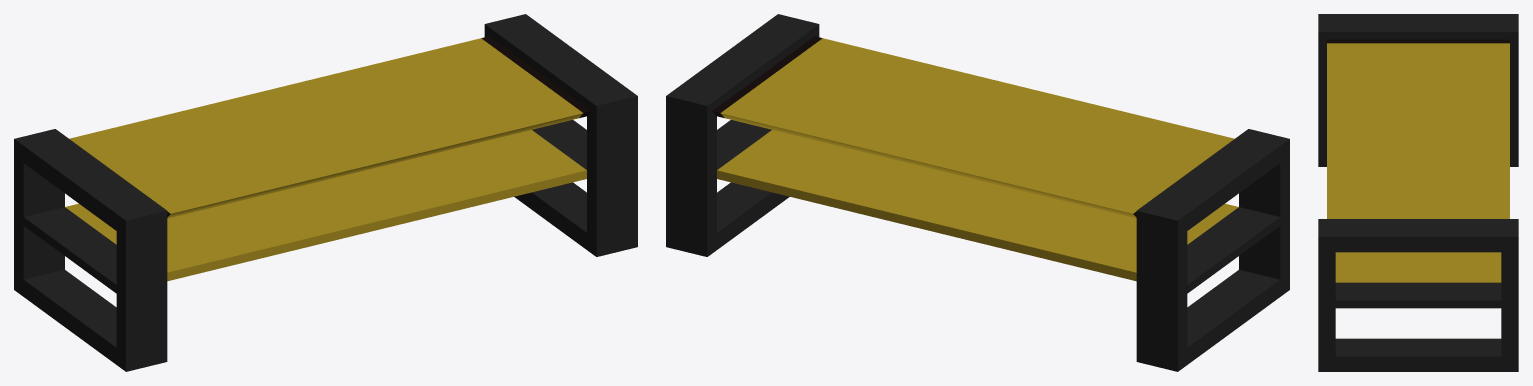
The model's file is PatioTable001_M_v1_Carrie.FBX.
3 views of the same model, side by side, from view 1: azimuth 30°, elevation 25°; view 2: azimuth 150°, elevation 25°; view 3: azimuth 270°, elevation 25° (orthographic). The views are drawn at different scales.
Visible parts, largest first — view 1: PatioTable001; view 2: PatioTable001; view 3: PatioTable001.
Boxes of the visible parts, left/top/right/bottom form: PatioTable001: left=14, top=14, right=637, bottom=371; PatioTable001: left=666, top=14, right=1289, bottom=371; PatioTable001: left=1318, top=14, right=1518, bottom=371.
Bounding box in the file's own units: 545 × 154 × 207.
